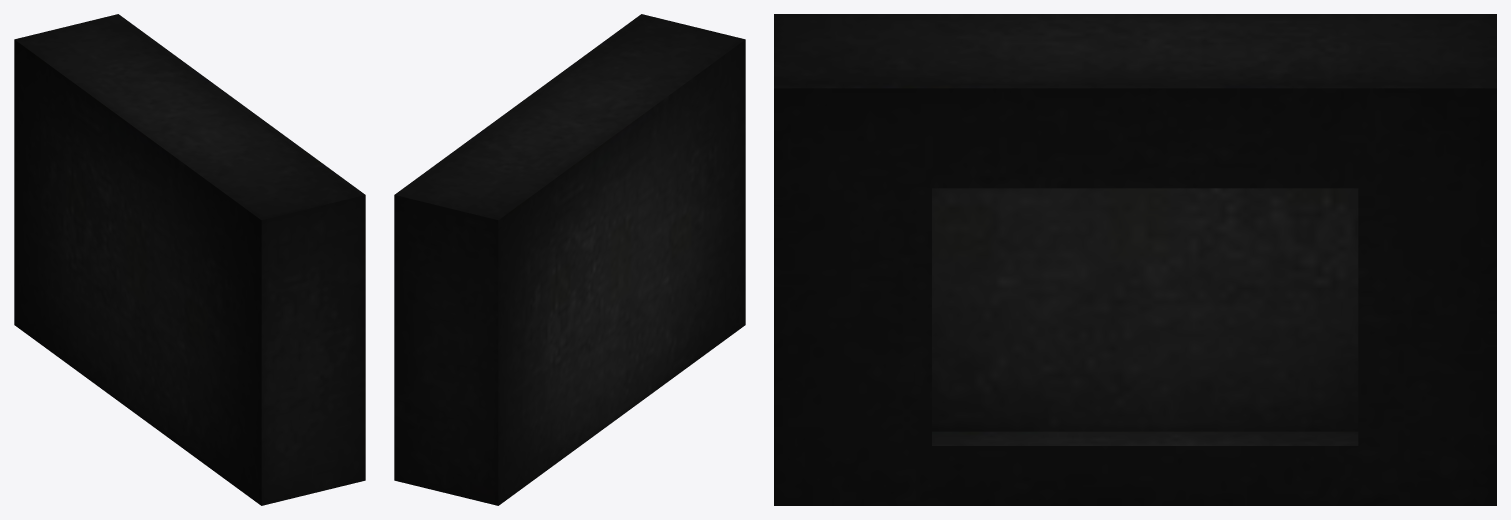
File: WindowBlind_02.FBX
3 renders of one model, left to right at view 1: azimuth 30°, elevation 25°; view 2: azimuth 150°, elevation 25°; view 3: azimuth 270°, elevation 25°, orthographic. The views are drawn at different scales.
Parts seen in each view (by area): view 1: WindowBlind_02; view 2: WindowBlind_02; view 3: WindowBlind_02.
Part boxes in pixels (x1,y1,x2,y2): WindowBlind_02: [14, 14, 365, 505]; WindowBlind_02: [394, 14, 745, 505]; WindowBlind_02: [774, 14, 1496, 505].
Size of the model in its own units: 147 by 385 by 604.
